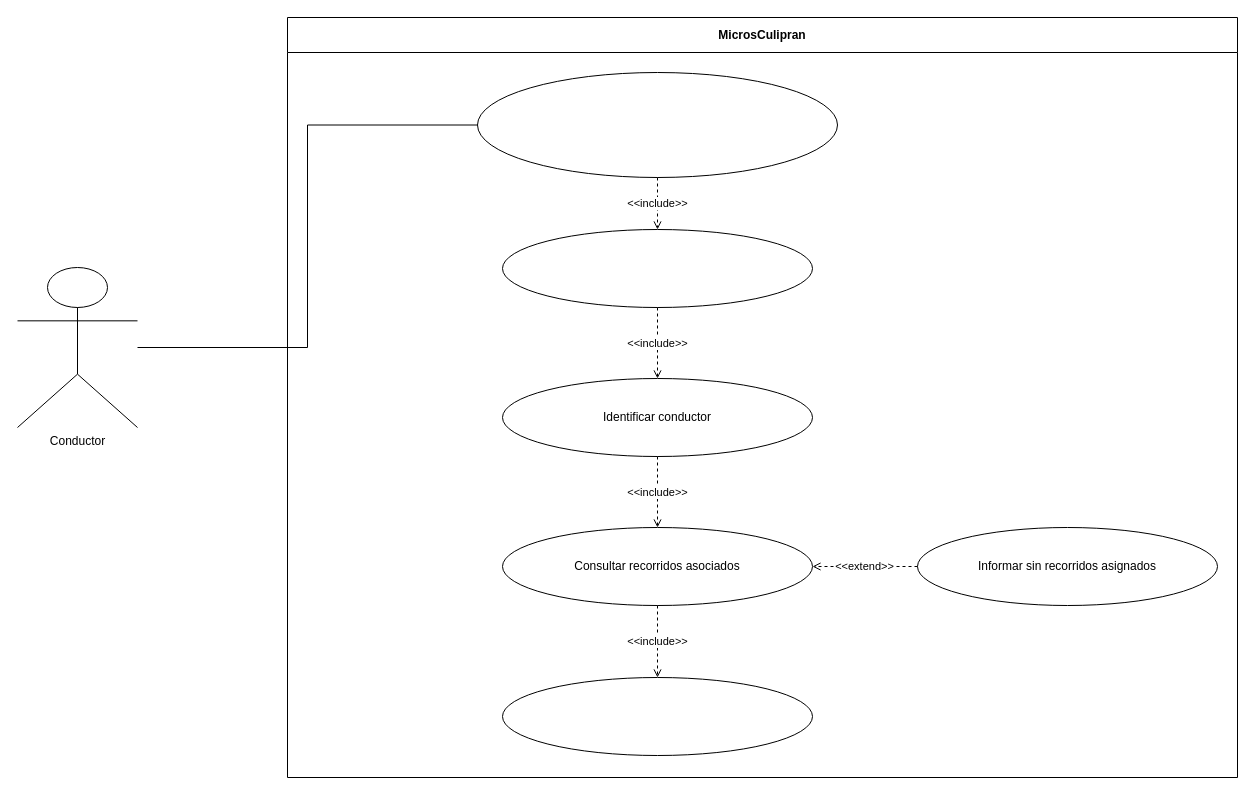
This 1255x795 diagram has some shape labels left out. The centre of each missing label's shape, as x and y in pixels:
"Autenticar usuario" belongs at point 657,268.
"CU-11 Consultar recorridos asignados" belongs at point 657,125.
"Mostrar recorridos asignados" belongs at point 657,716.
